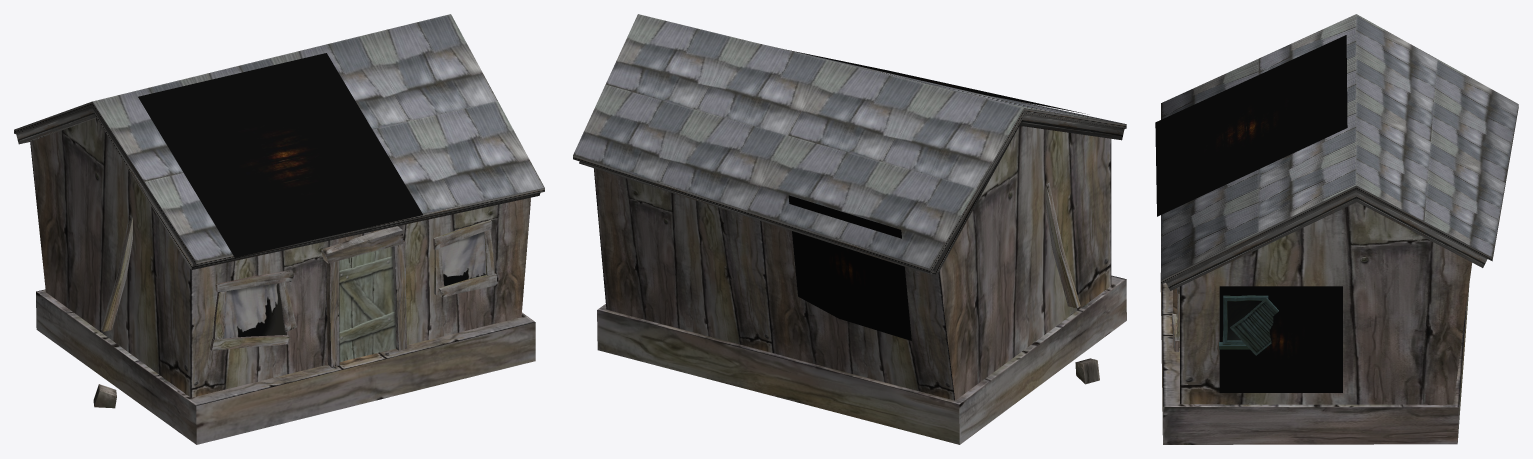
File: pir_m_bld_shn_houseG_destroyed.fbx
The picture shows the model from 3 angles, left to right: view 1: azimuth 30°, elevation 25°; view 2: azimuth 150°, elevation 25°; view 3: azimuth 270°, elevation 25°; orthographic projection. The views are drawn at different scales.
Visible parts, largest first — view 1: house_geo, pPlane1, platform, door_left, curtain1, group1, door_frame_3, door_frame_2, door_frame_1, wood_support, wood17.001, wood14.001 (+4 smaller); view 2: house_geo, platform, pPlane3, wood_support, pPlane1; view 3: house_geo, pPlane1, platform, pPlane2, shutter, woodFrame, Glass.
Part boxes in pixels (x1,y1,x2,y2): house_geo: [14, 14, 544, 397]; pPlane1: [138, 53, 422, 257]; platform: [36, 289, 535, 444]; door_left: [339, 247, 396, 361]; curtain1: [224, 283, 285, 338]; group1: [441, 232, 486, 286]; door_frame_3: [321, 226, 403, 263]; door_frame_2: [326, 261, 339, 366]; door_frame_1: [392, 240, 406, 350]; wood_support: [100, 215, 132, 331]; wood17.001: [210, 335, 289, 350]; wood14.001: [215, 270, 292, 292]; house_geo: [573, 14, 1126, 400]; platform: [597, 275, 1126, 444]; pPlane3: [788, 195, 911, 340]; wood_support: [1045, 182, 1080, 308]; pPlane1: [786, 49, 1087, 114]; house_geo: [1161, 14, 1518, 404]; pPlane1: [1155, 35, 1347, 216]; platform: [1160, 273, 1469, 444]; pPlane2: [1219, 286, 1342, 392]; shutter: [1230, 297, 1278, 355]; woodFrame: [1219, 295, 1268, 349]; Glass: [1227, 300, 1261, 340].
Bounding box in the file's own units: 2786 × 1840 × 2275.
4 materials, 4 textured.
